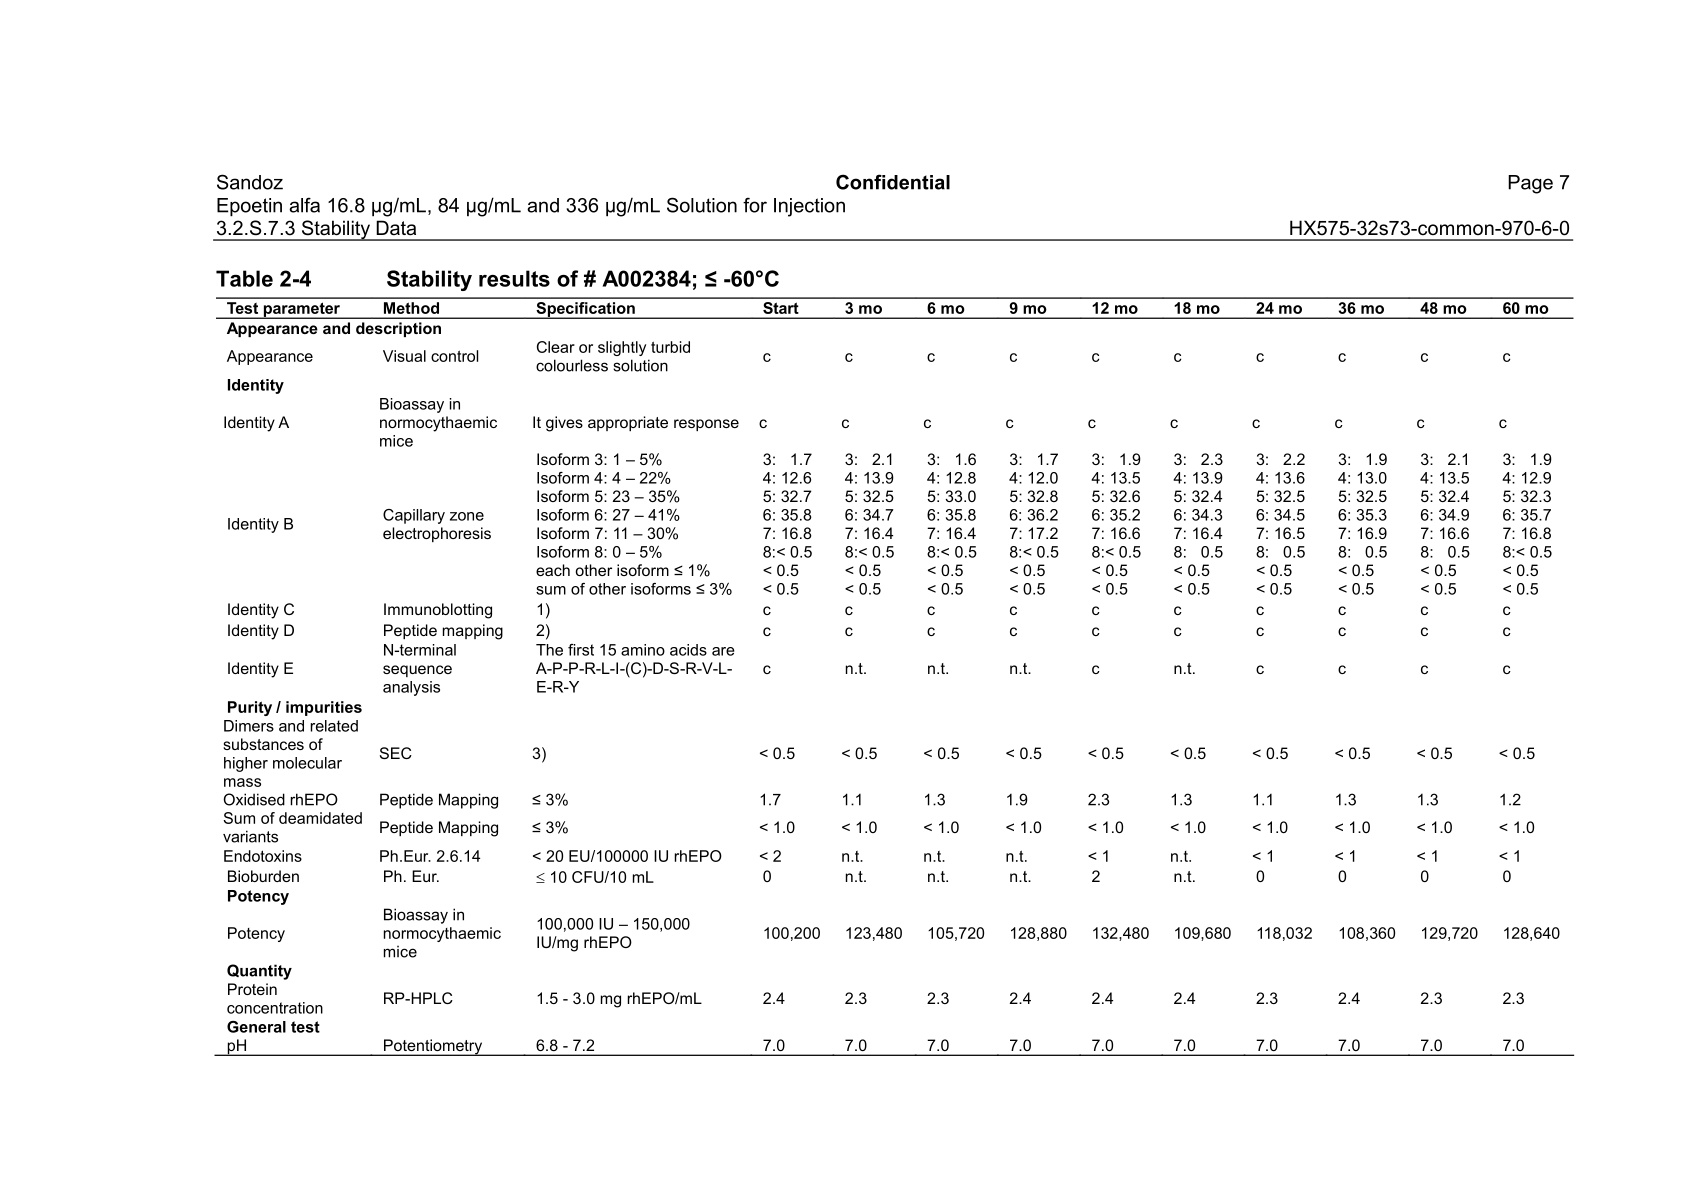partial_lined: (214, 295, 1577, 1056)
